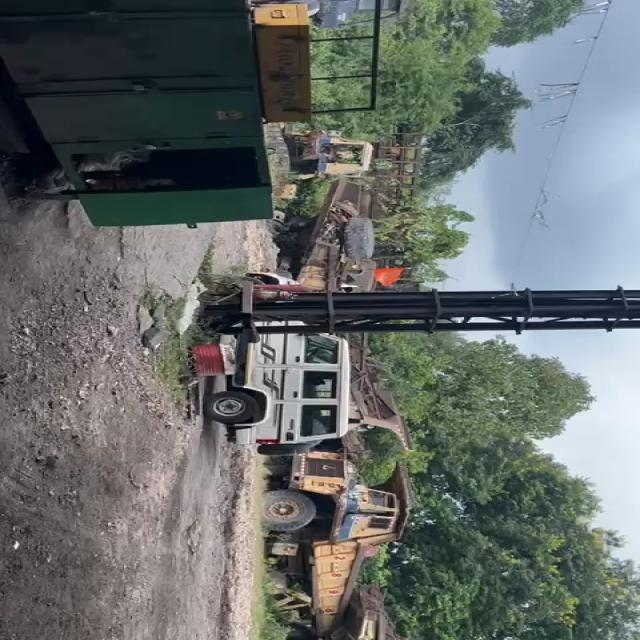light_vehicle: (254, 332, 360, 456)
